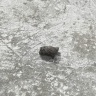Dog: (40, 45, 58, 57)
